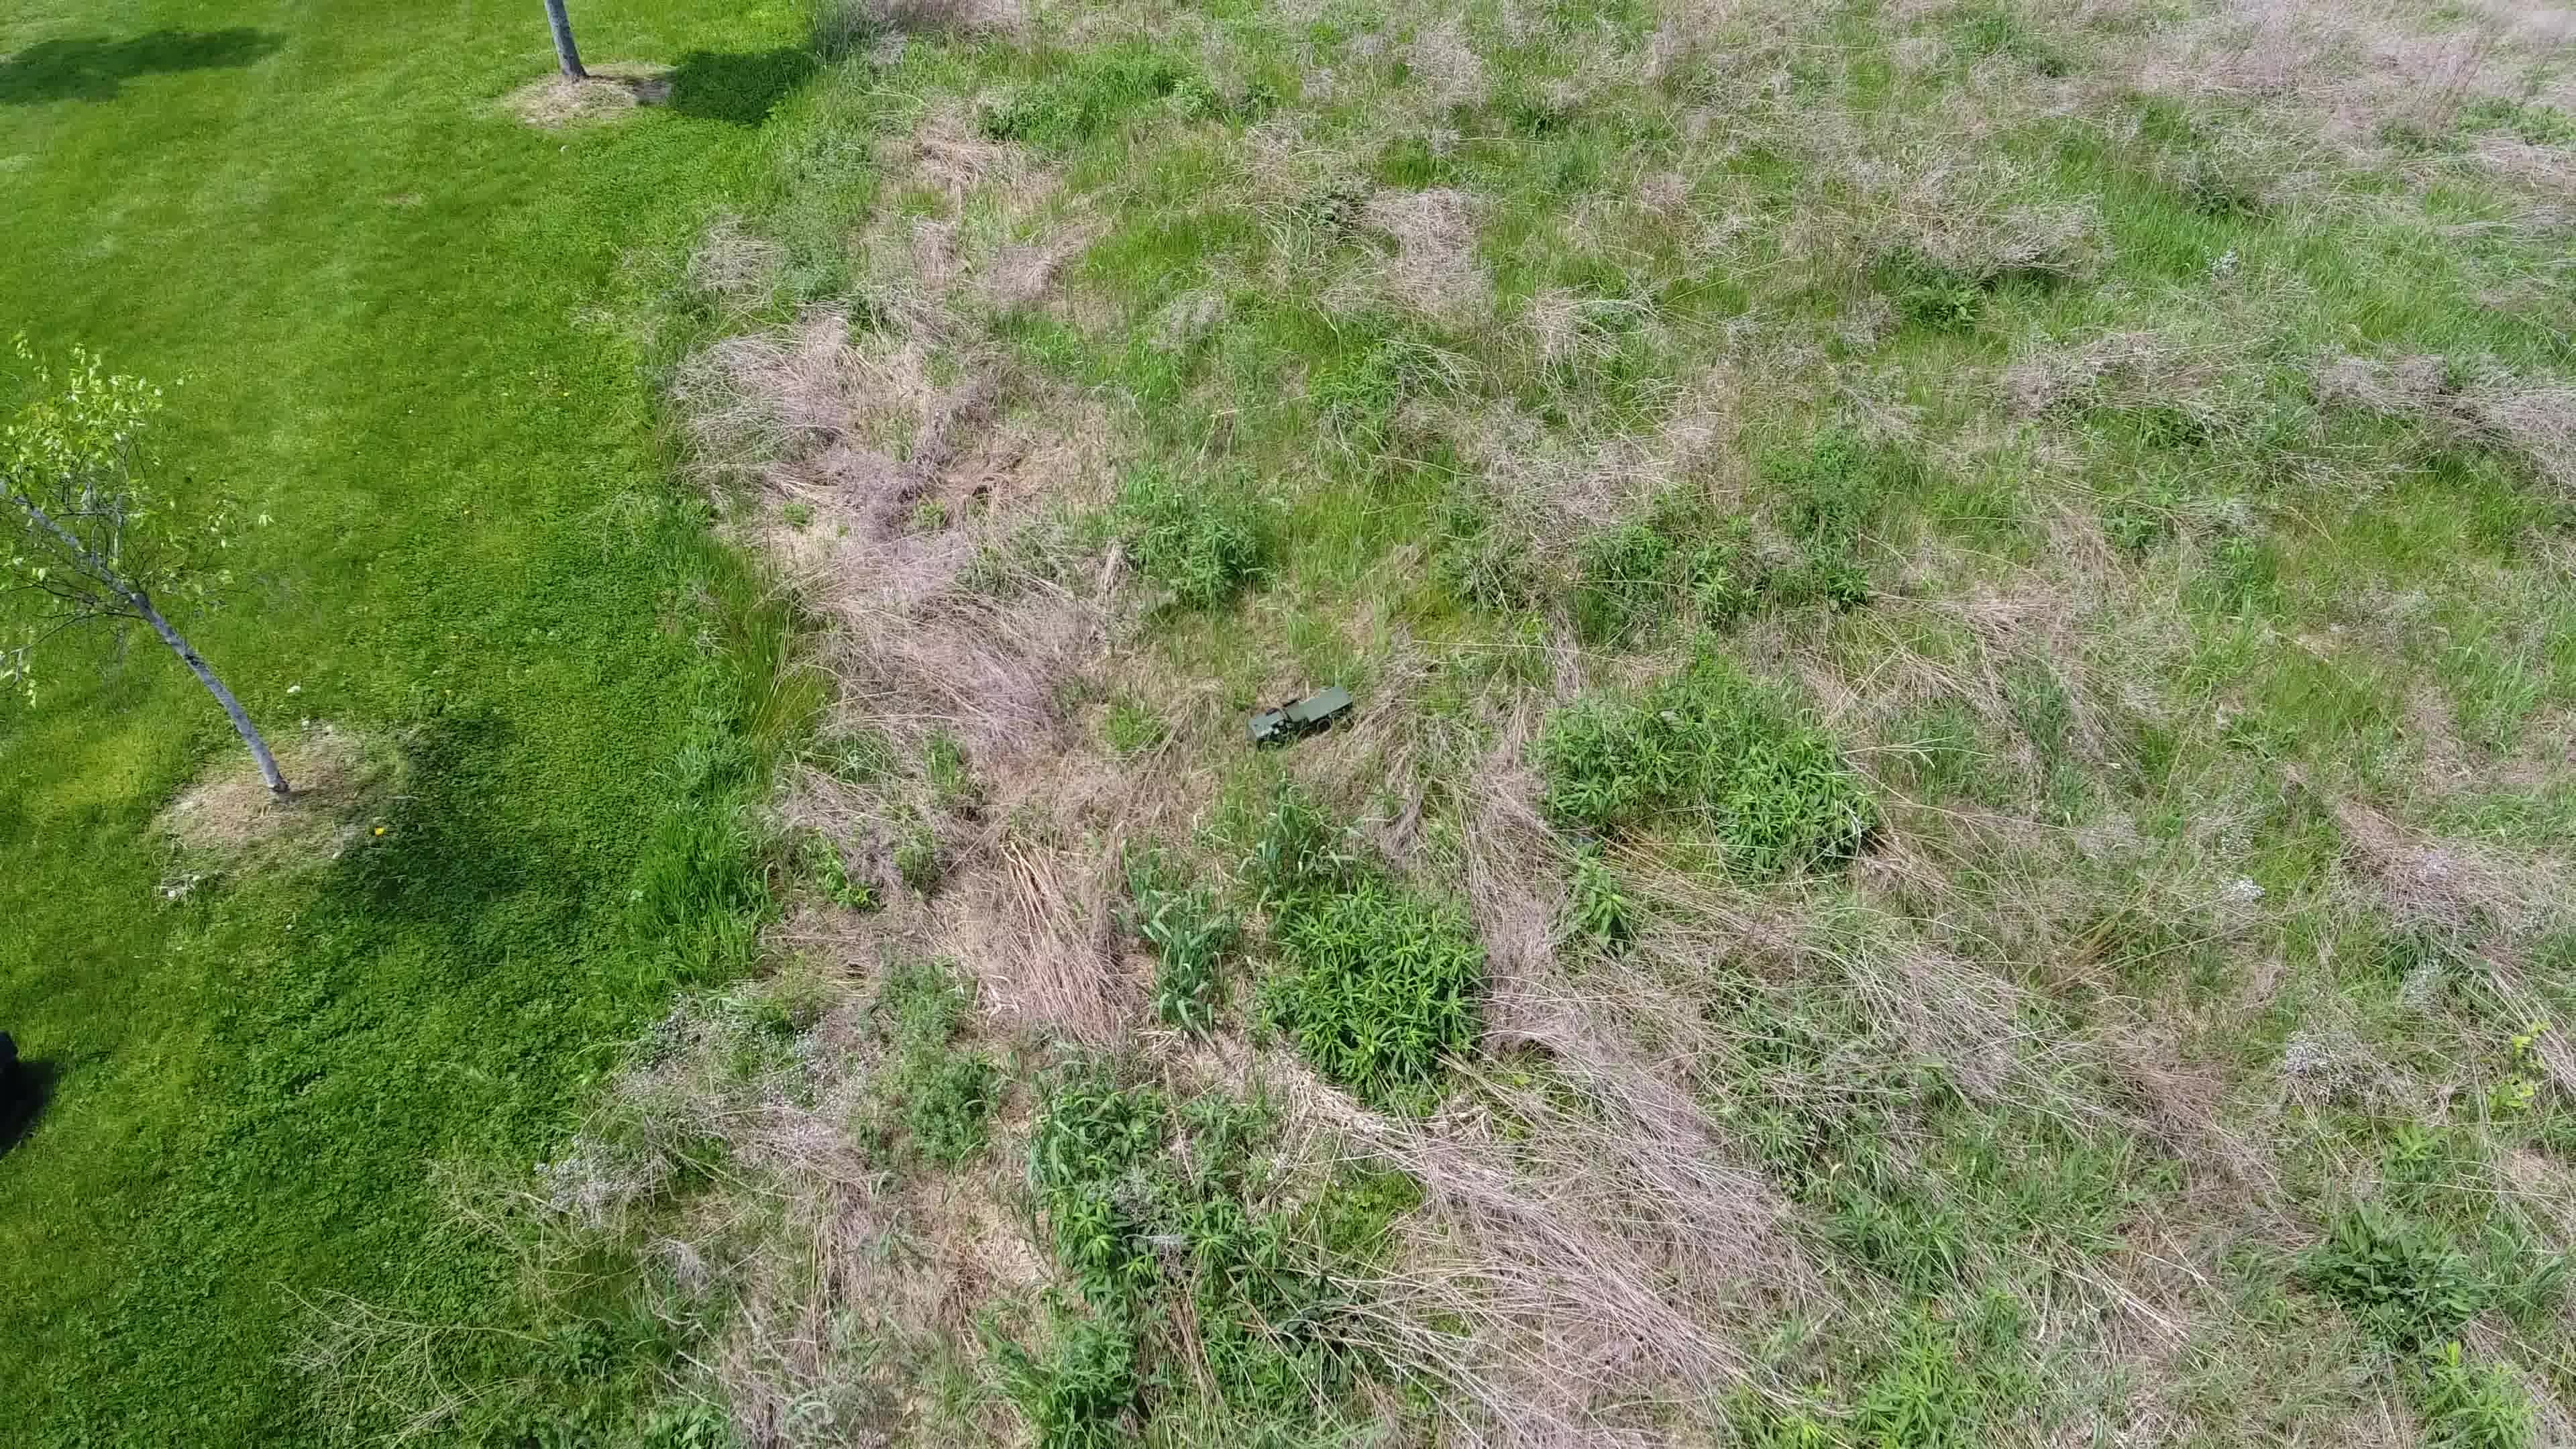transporter9: (1246, 678, 1355, 752)
